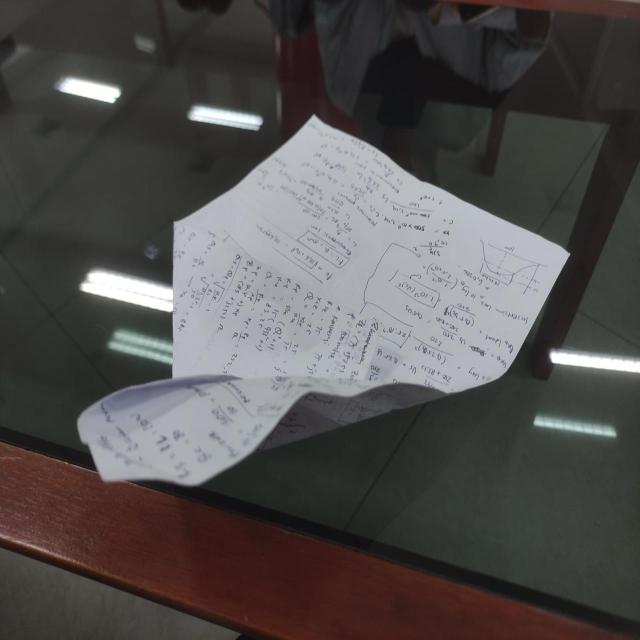KertasBekas: (73, 114, 570, 500)
